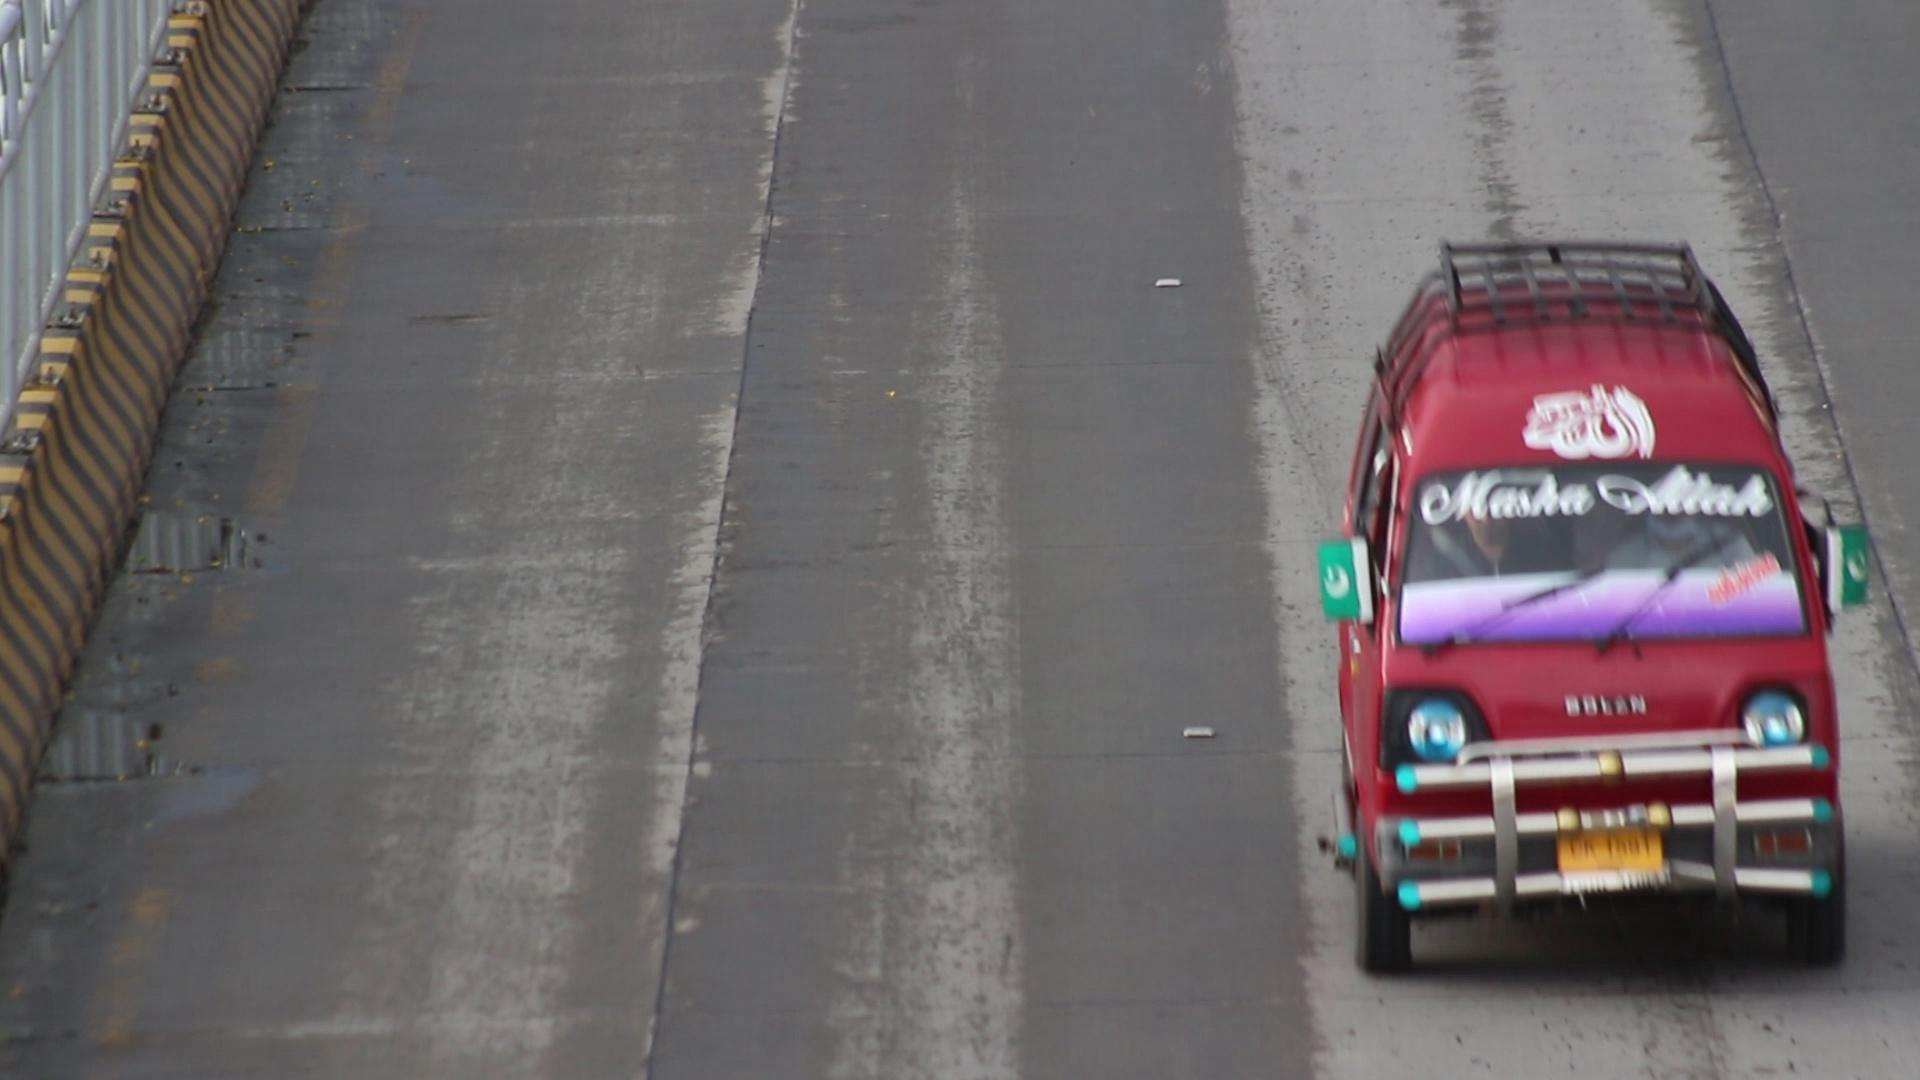windshield: (1383, 436, 1820, 670)
